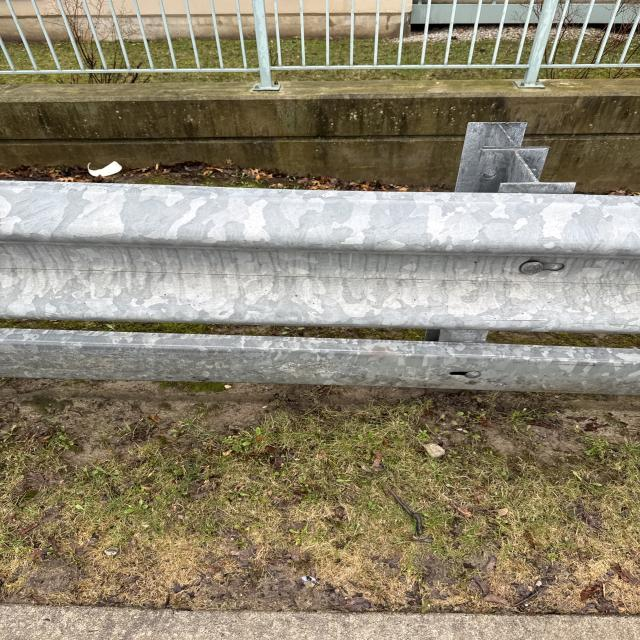Guard rail: (21, 146, 636, 327)
